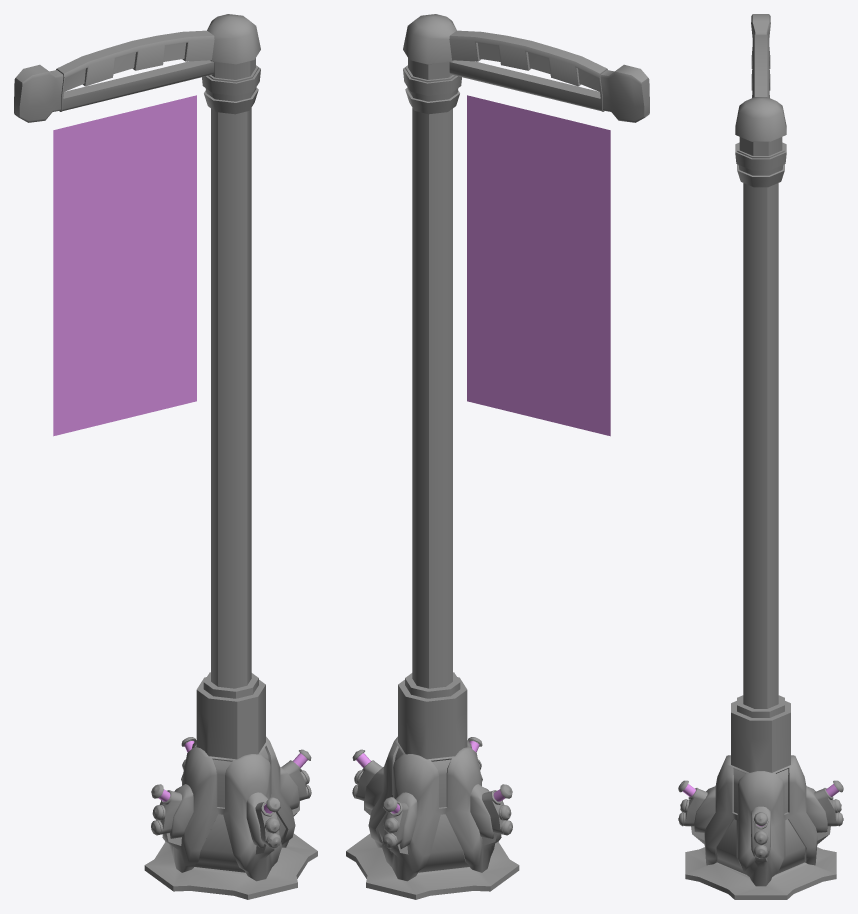
File: LP_CLightPost.FBX
3 views of the same model, side by side, from view 1: azimuth 30°, elevation 25°; view 2: azimuth 150°, elevation 25°; view 3: azimuth 270°, elevation 25° (orthographic). The views are drawn at different scales.
Visible parts, largest first — view 1: L_add-post; view 2: L_add-post; view 3: L_add-post.
Part boxes in pixels (x1,y1,x2,y2): L_add-post: (14, 14, 317, 899); L_add-post: (346, 14, 649, 899); L_add-post: (678, 14, 843, 899).
Bounding box in the file's own units: 176 × 485 × 94.59.
